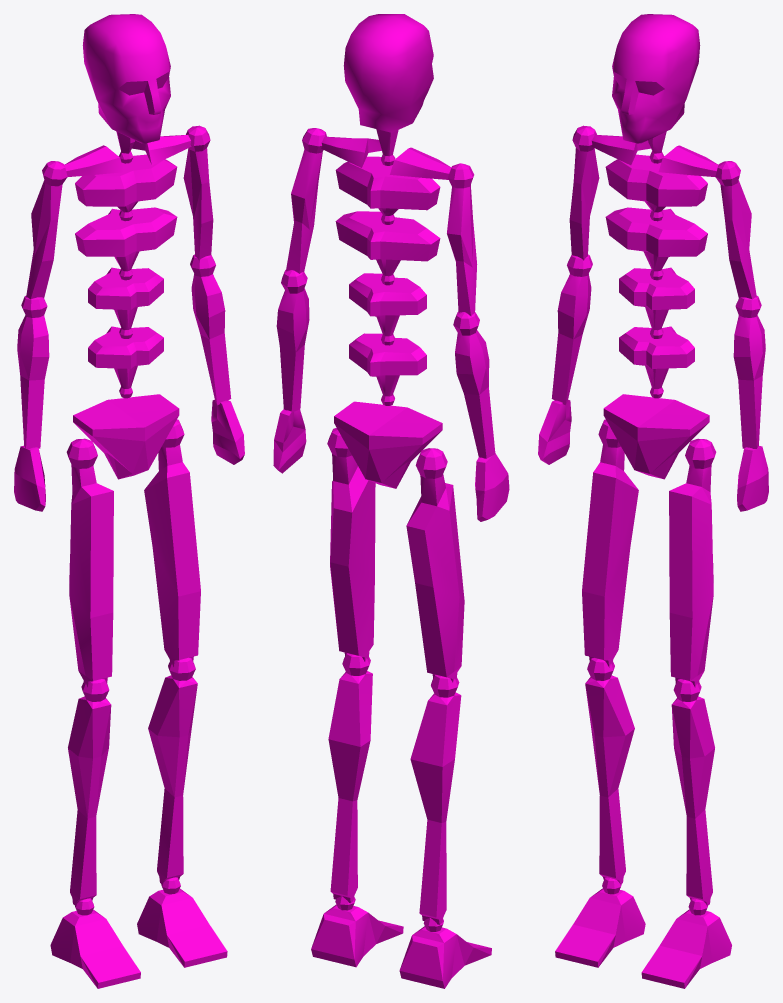
File: Character.FBX
3 renders of one model, left to right at view 1: azimuth 30°, elevation 25°; view 2: azimuth 150°, elevation 25°; view 3: azimuth 330°, elevation 25°, orthographic. The views are drawn at different scales.
Visible parts, largest first — view 1: Object001; view 2: Object001; view 3: Object001.
Boxes of the visible parts, <box> form: Object001: <box>14,14,244,988</box>; Object001: <box>273,14,509,988</box>; Object001: <box>538,14,768,988</box>.
Bounding box in the file's own units: 0.4339 × 0.2188 × 1.79.
